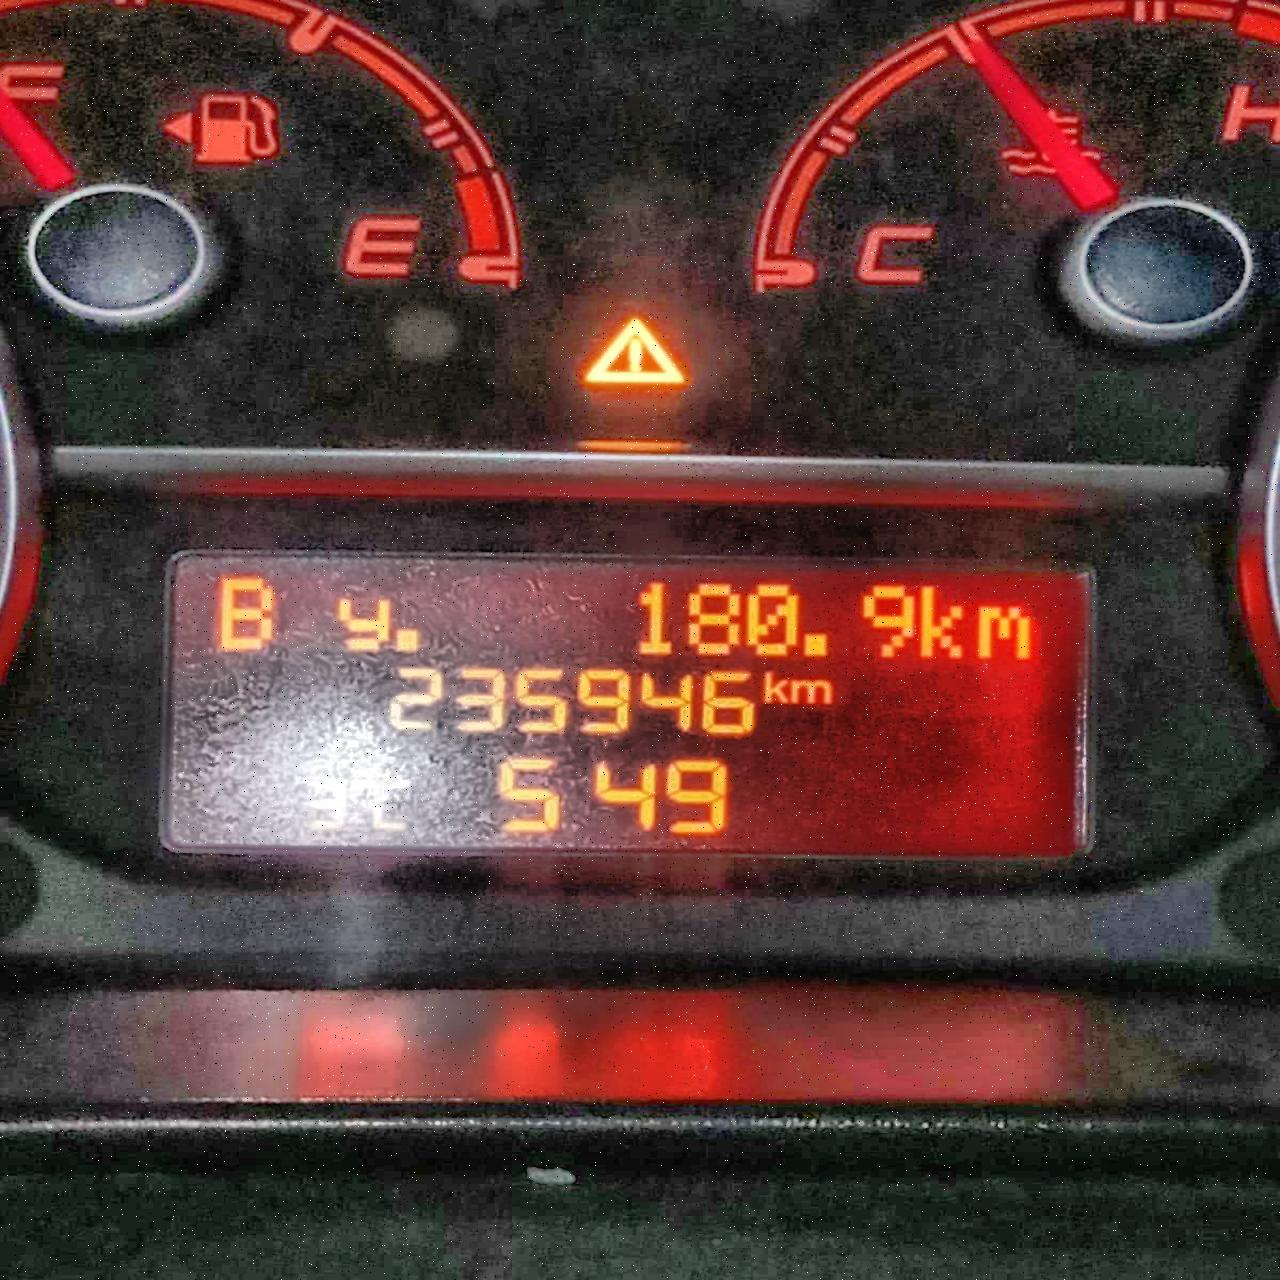-: (799, 631, 830, 660), (390, 628, 422, 655)
0: (743, 581, 798, 659)
1: (633, 580, 675, 658)
2: (384, 663, 445, 731)
3: (445, 666, 509, 735), (301, 772, 350, 833)
4: (592, 757, 660, 832), (635, 669, 696, 735)
5: (493, 757, 561, 832), (511, 665, 571, 734)
6: (697, 669, 756, 737)
8: (685, 580, 741, 659)
9: (662, 757, 730, 835), (859, 583, 918, 660), (573, 666, 632, 735)
X: (215, 576, 275, 651), (919, 583, 966, 661), (976, 604, 1033, 662), (335, 595, 392, 654), (367, 775, 415, 832), (792, 678, 835, 707), (760, 669, 790, 706)
odometer: (150, 536, 1110, 869)
